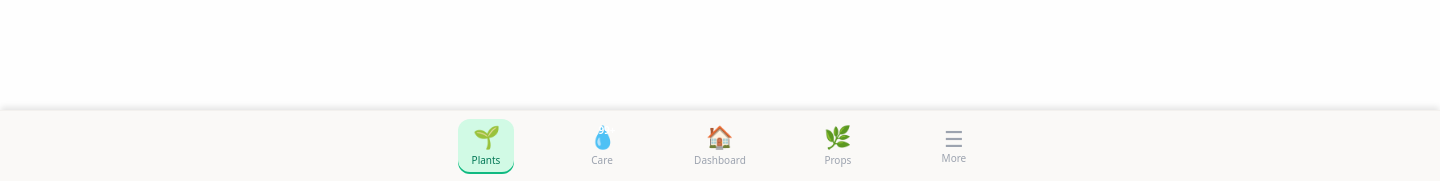
Scenario: Navigation Integration Flows › Notification Badge Integration › should handle badge overflow correctly
Expected: the message named "200 notifications" reads "99+", x1=598 y1=122 x2=616 y2=136
// Open overflow menu to see admin badge
Click the button with aria-label "more navigation options" at (954, 146), box x1=926 y1=120 x2=982 y2=172
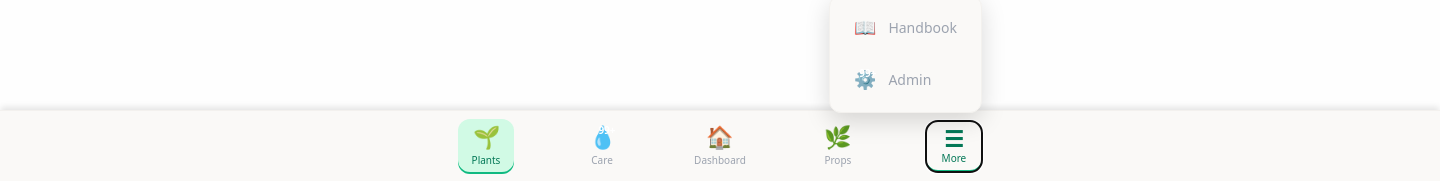
Now the link with aria-label "navigate to admin (150 notifications)" is shown, box x1=854 y1=66 x2=931 y2=90
